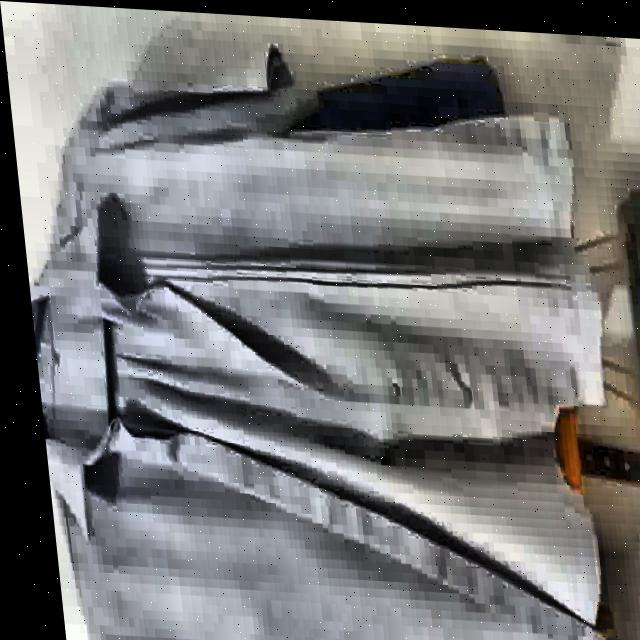clothes: (3, 26, 638, 640)
